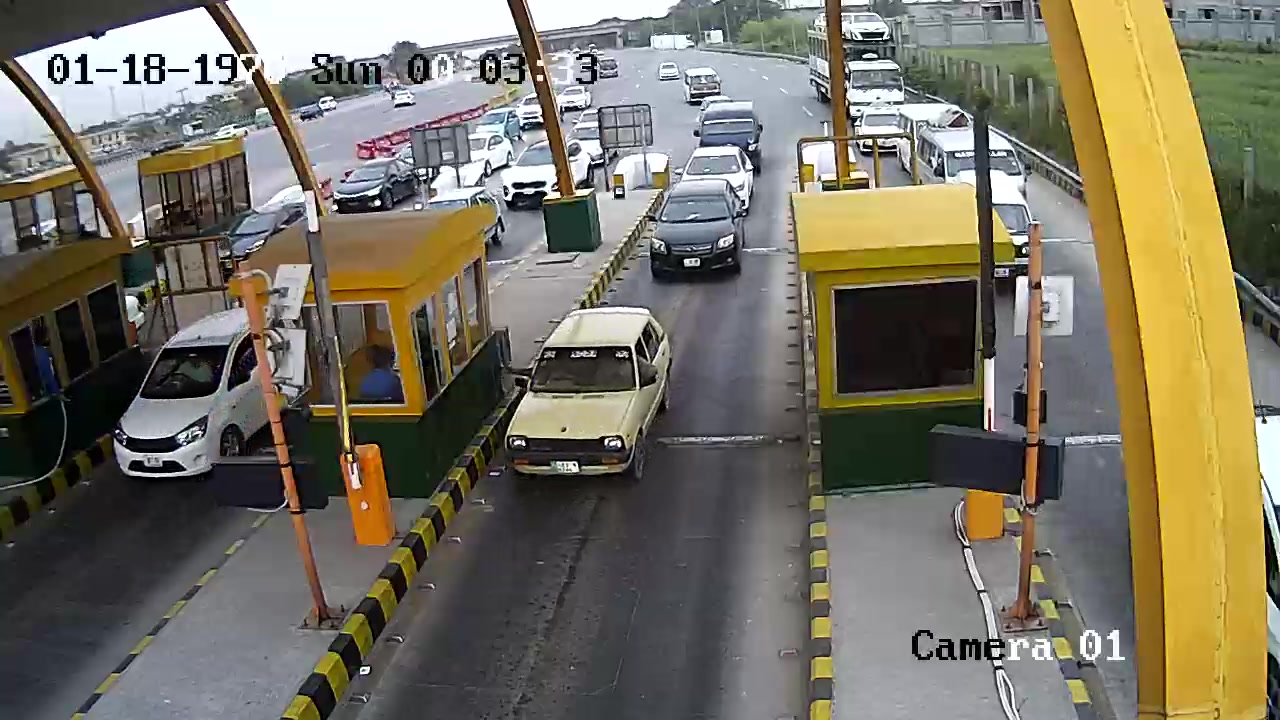F1: (480, 304, 684, 510)
